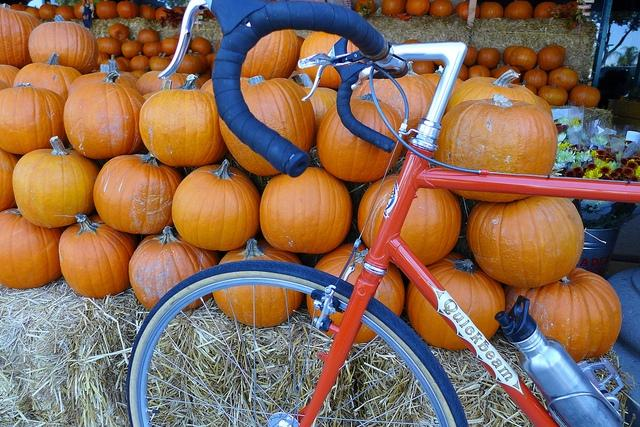pumpkin: (435, 94, 558, 202), (504, 268, 622, 362), (466, 195, 585, 288), (306, 242, 406, 344), (219, 75, 316, 176), (358, 174, 462, 266), (407, 255, 505, 351), (212, 237, 304, 328), (172, 159, 262, 251), (12, 136, 102, 228), (139, 74, 228, 167), (128, 226, 220, 314), (260, 168, 354, 254), (352, 62, 436, 156), (318, 92, 404, 183), (92, 152, 184, 235), (62, 71, 146, 160), (58, 214, 136, 300), (1, 208, 66, 290), (1, 82, 68, 154), (444, 68, 542, 116), (28, 15, 98, 75), (296, 31, 366, 90), (12, 53, 82, 101), (242, 29, 300, 81), (0, 4, 42, 70), (68, 60, 140, 98), (302, 87, 338, 148), (136, 70, 202, 96), (0, 148, 25, 212), (420, 74, 464, 96), (546, 65, 578, 92), (569, 82, 601, 108), (204, 77, 250, 95), (537, 44, 564, 71), (510, 46, 538, 72), (176, 49, 203, 75), (522, 65, 548, 91), (538, 84, 568, 106), (96, 35, 122, 57), (455, 1, 480, 22), (504, 1, 533, 19), (477, 48, 500, 70), (0, 64, 21, 88), (100, 54, 128, 72), (121, 37, 143, 59), (148, 52, 172, 72), (478, 2, 504, 19), (130, 52, 152, 72), (534, 1, 558, 19), (429, 0, 454, 17), (138, 27, 160, 46), (96, 1, 118, 20), (192, 36, 212, 56), (108, 23, 130, 41), (117, 1, 139, 19), (142, 40, 164, 58), (406, 1, 430, 16), (467, 65, 491, 80), (382, 1, 406, 16), (192, 52, 208, 74), (462, 45, 478, 67), (503, 46, 520, 66), (38, 2, 58, 19), (412, 61, 436, 75), (56, 5, 78, 20), (162, 38, 180, 56), (93, 51, 110, 70), (139, 4, 156, 22), (196, 68, 212, 87), (354, 0, 376, 13), (26, 5, 42, 20), (74, 2, 85, 20), (156, 8, 170, 22), (458, 64, 468, 82), (10, 2, 28, 11), (0, 79, 11, 91), (210, 53, 216, 73), (563, 21, 576, 30), (172, 6, 185, 14), (402, 39, 421, 44), (433, 60, 444, 67), (172, 34, 180, 40)
